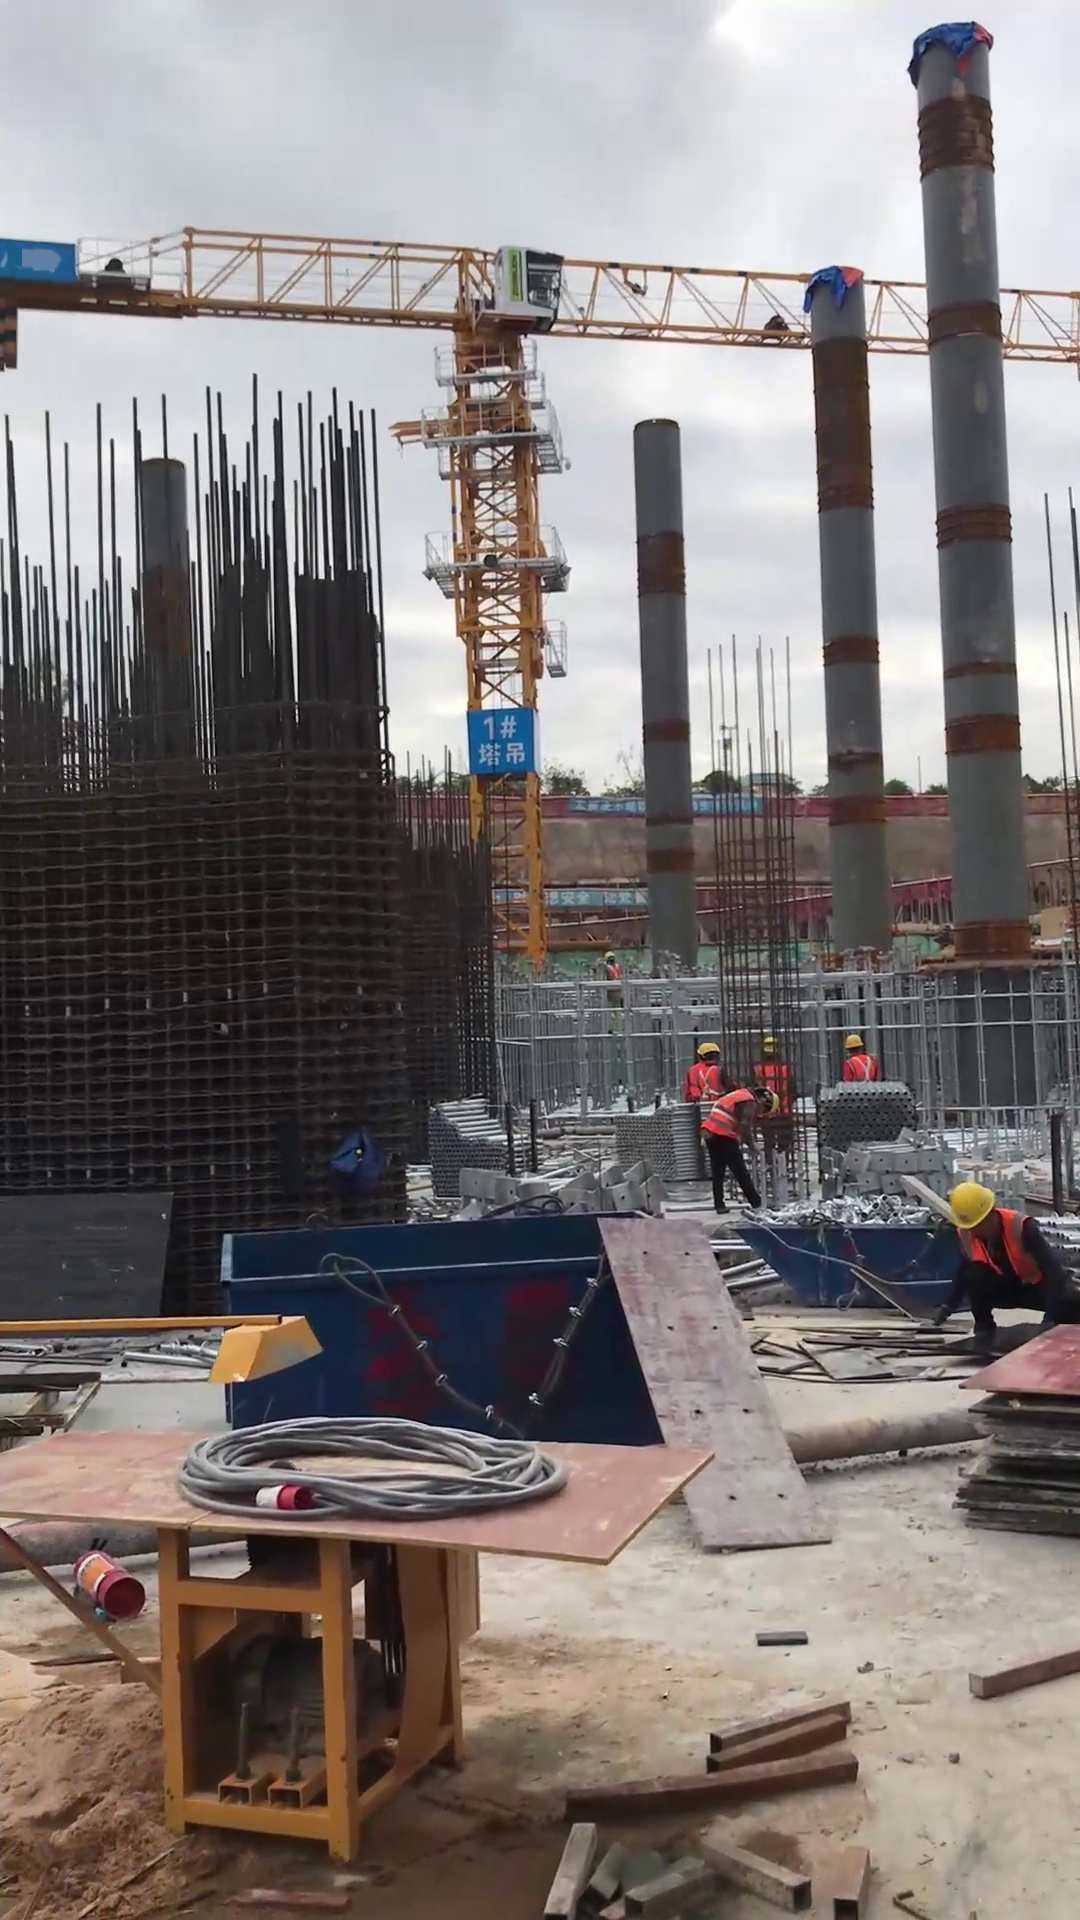board: (942, 1312, 1080, 1546)
cutter: (1, 1408, 716, 1873)
helmet: (941, 1182, 1002, 1235), (759, 1084, 785, 1123), (688, 1039, 725, 1064), (842, 1030, 867, 1053), (601, 949, 622, 966)
hopper: (206, 1220, 683, 1446), (740, 1198, 935, 1320)
person: (927, 1177, 1077, 1363), (701, 1078, 788, 1220), (677, 1030, 735, 1111), (831, 1024, 885, 1098), (594, 946, 631, 1015)
scaffold: (426, 1084, 535, 1203), (821, 1087, 923, 1175), (614, 1098, 695, 1198)
slogan: (541, 887, 650, 908), (565, 795, 651, 816)
vest: (959, 1200, 1053, 1299), (704, 1086, 757, 1151), (683, 1061, 728, 1101), (835, 1053, 884, 1089), (604, 962, 627, 1002)
